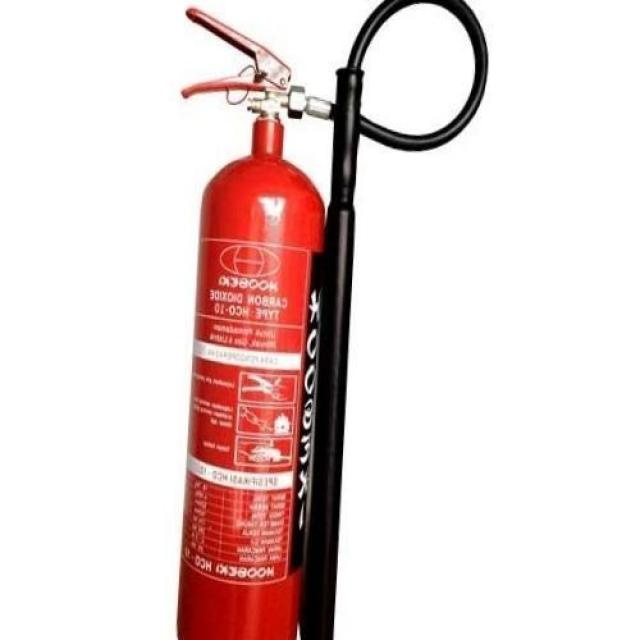fire_extinguisher: (161, 0, 491, 639)
